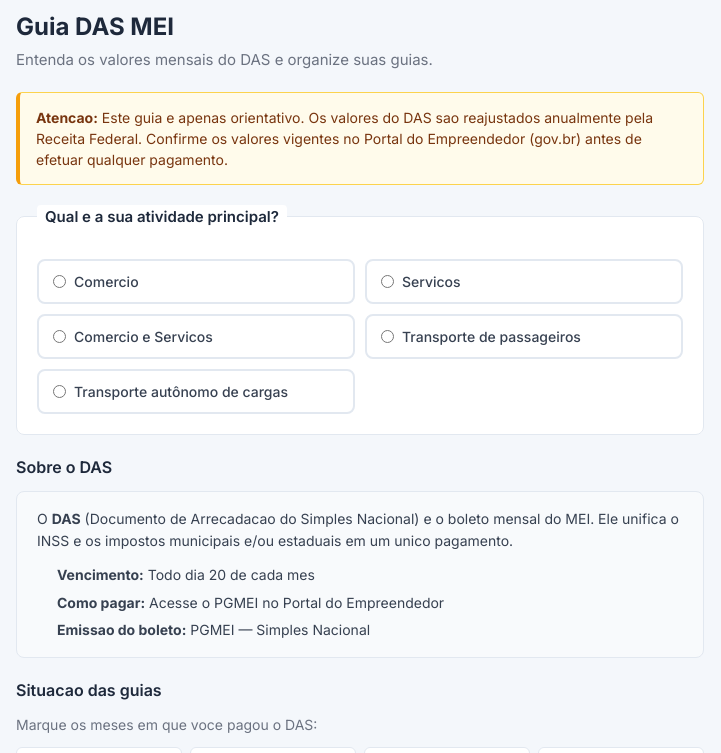
MeiDasGuideTool › selecionar "Comercio" exibe componente INSS com valor real
Click the radio button labelled "Comercio" at (60, 281), box x1=53 y1=275 x2=66 y2=288
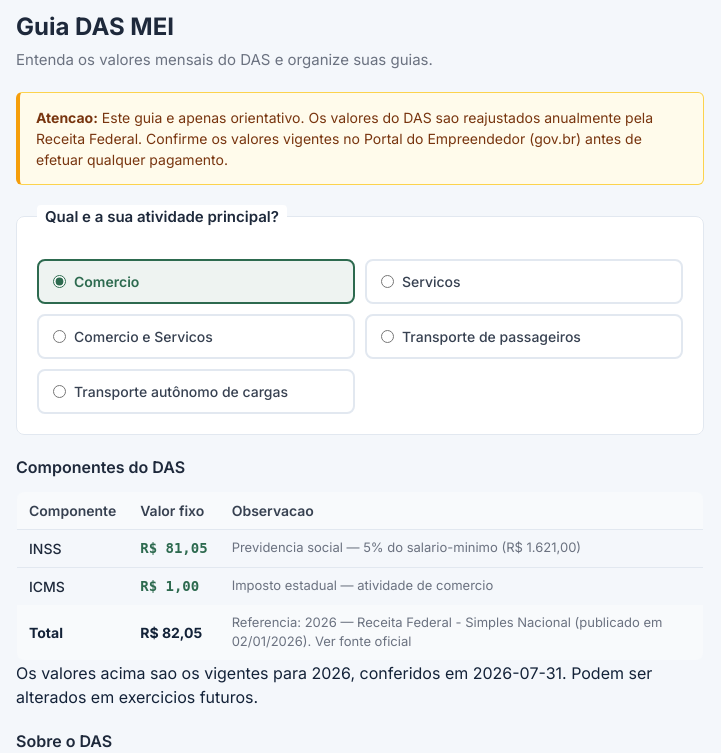
Now the text "INSS" is shown, box x1=16 y1=529 x2=128 y2=567
Now the text "R$ 81,05" is shown, box x1=128 y1=529 x2=220 y2=567
